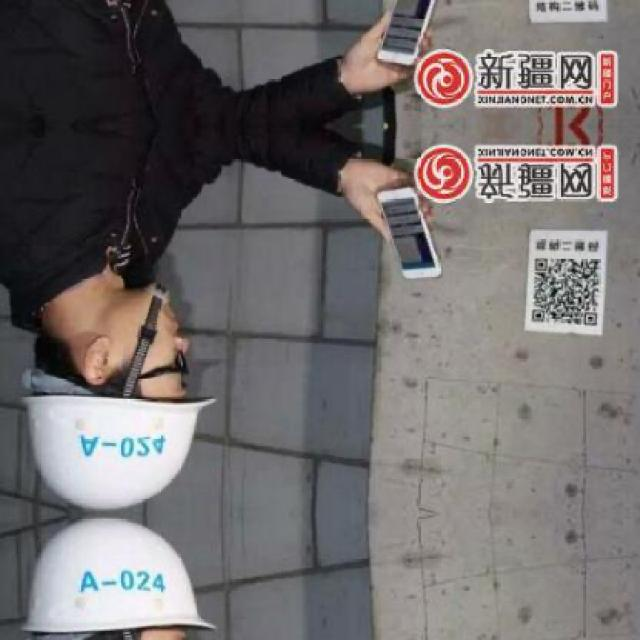con casco: (25, 282, 232, 512)
